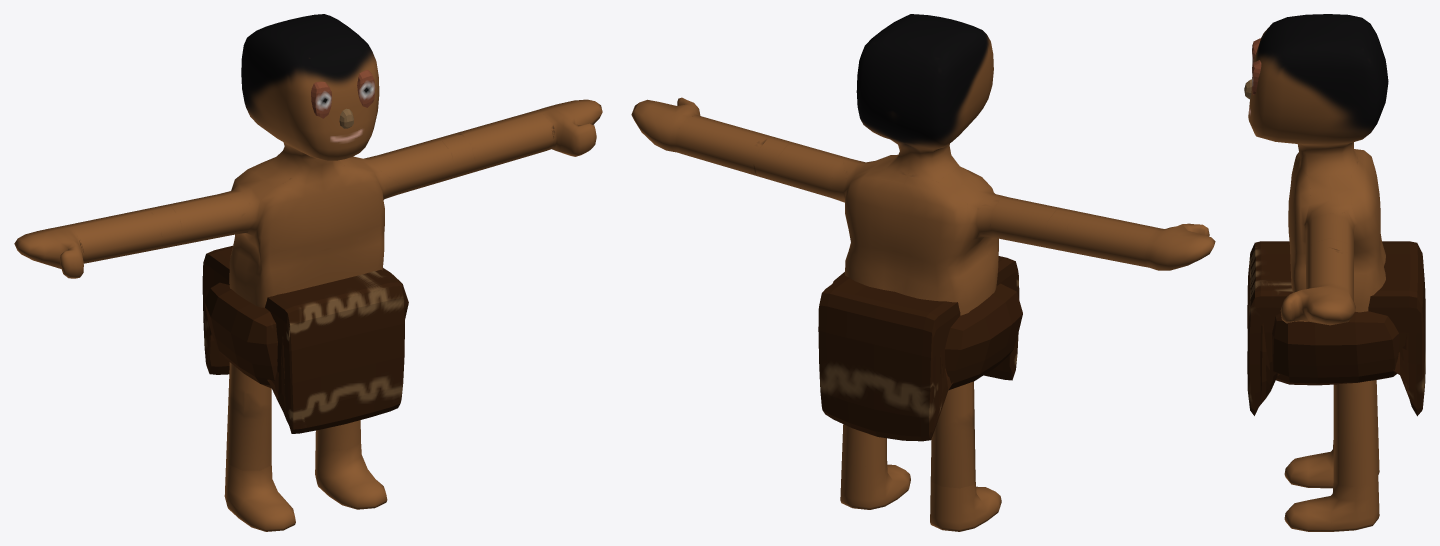
The model's file is monitotaparrabo.obj.
The picture shows the model from 3 angles, left to right: view 1: azimuth 30°, elevation 25°; view 2: azimuth 150°, elevation 25°; view 3: azimuth 270°, elevation 25°; orthographic projection.
Parts seen in each view (by area): view 1: Personaje; view 2: Personaje; view 3: Personaje.
Boxes of the visible parts, x1,y1,x2,y2 form: Personaje: (14, 14, 602, 531); Personaje: (631, 14, 1215, 531); Personaje: (1244, 14, 1425, 531).
Bounding box in the file's own units: 8.51 × 6.64 × 2.31.
